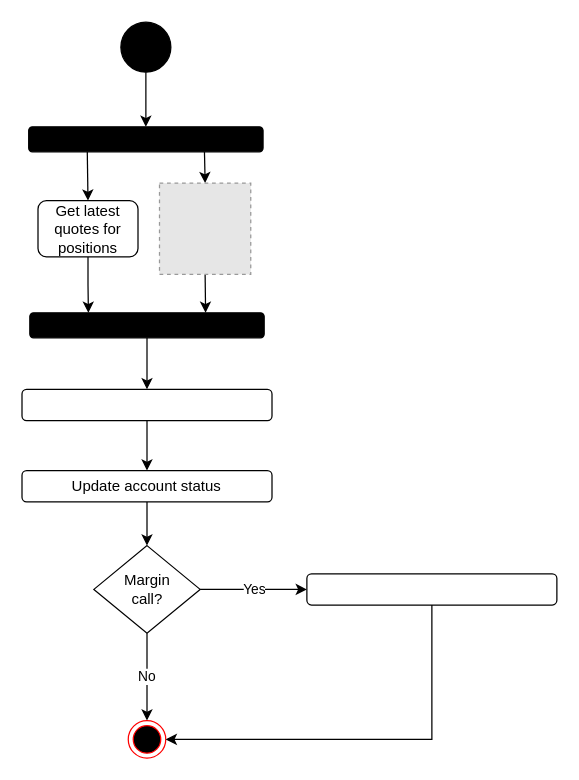
Image size: 579x780. Some labels were removed from this diagram. Grey dashed boxes stand in for pictures. The centre of each missing label's shape, as x and y in pixels:
Send margin call notification: the point at 431,588
Update margin requirements: the point at 146,404
